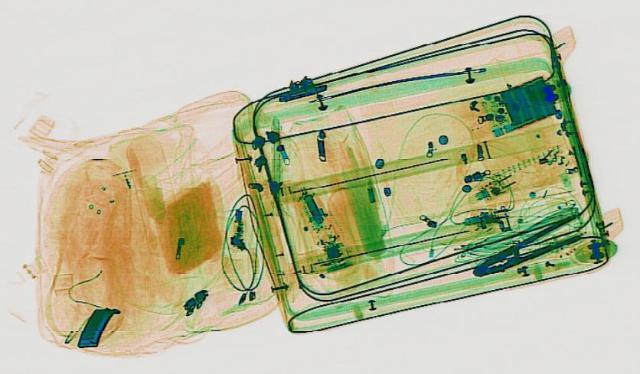Pliers: (458, 211, 600, 280)
